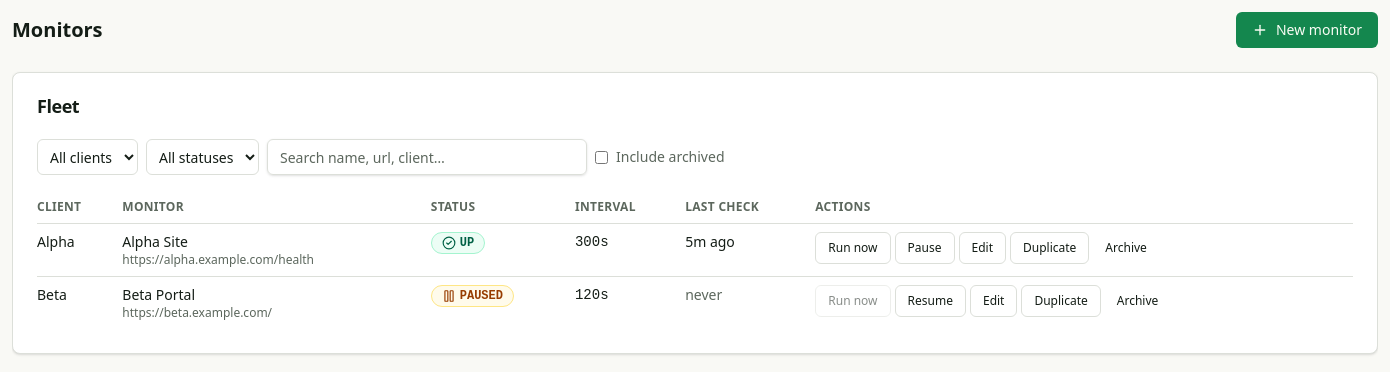
Scenario: MonitorsPage actions › dismissing the confirm step cancels the archive
Click the button "Archive" in the row of "Alpha Site".
click(1126, 248)  # box [1093,232,1159,264]
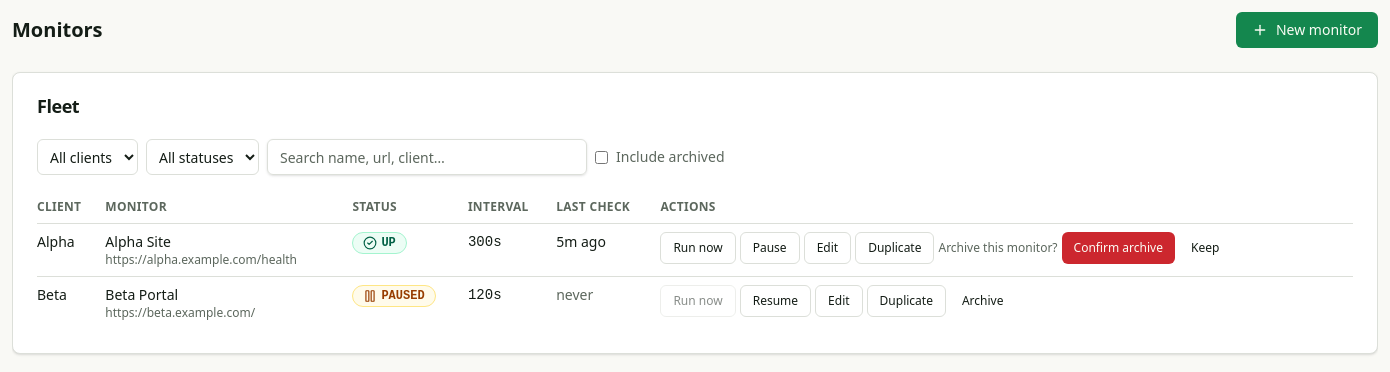
Click the button "Keep".
click(1205, 248)  # box [1179,232,1231,264]
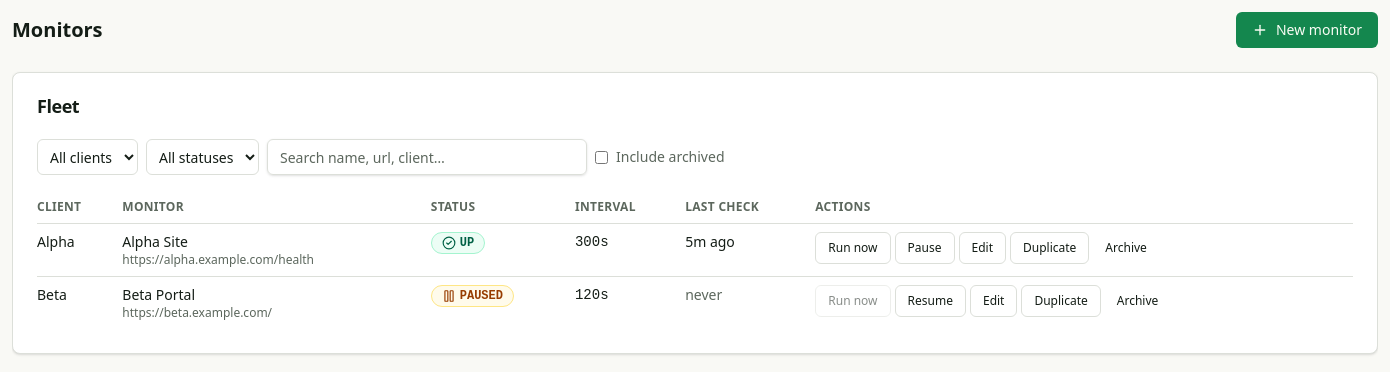
Expected: the button "Confirm archive" is gone
